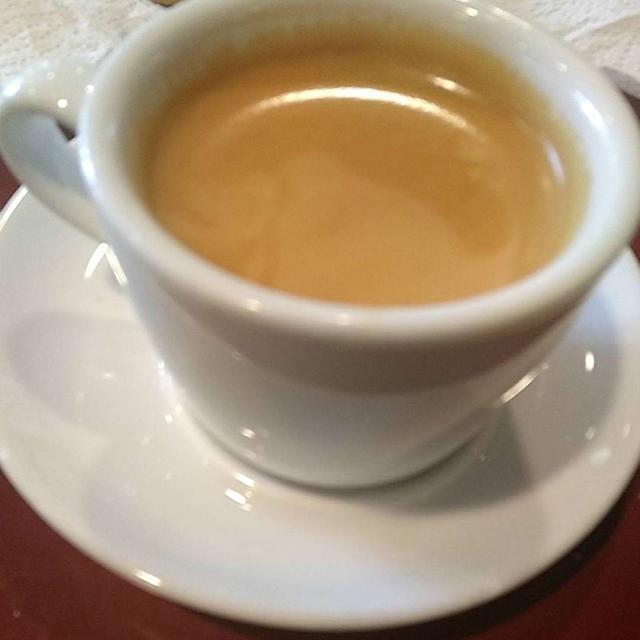espresso: (141, 38, 581, 300)
